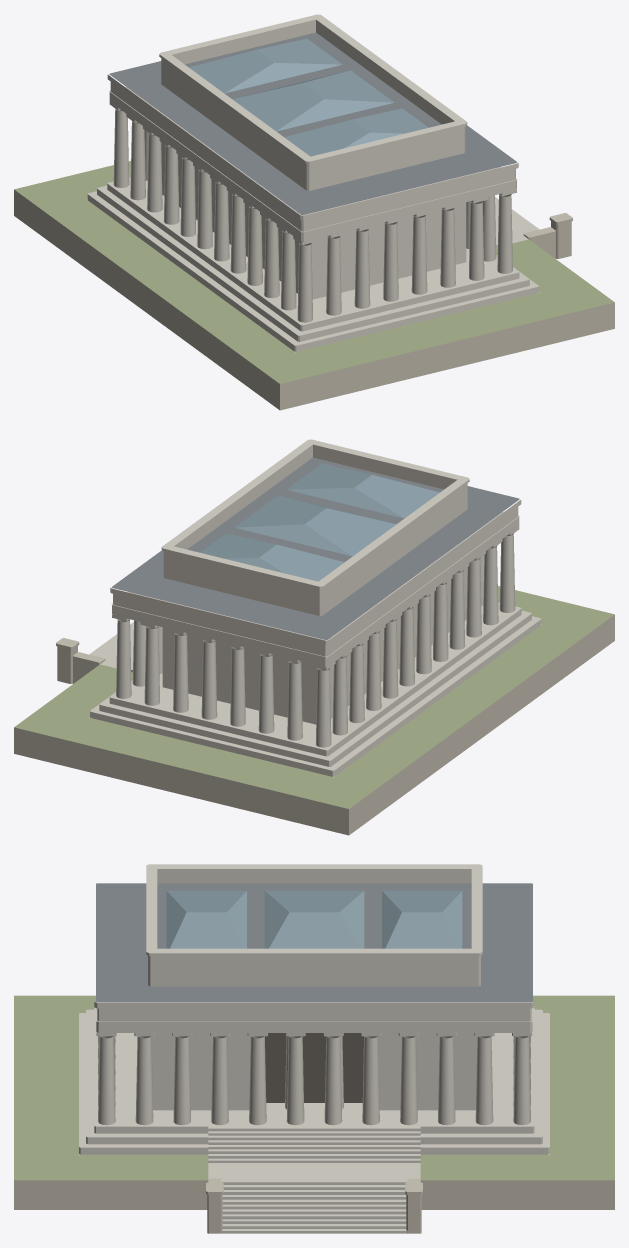
3 views of the same model, one above another, from view 1: azimuth 30°, elevation 25°; view 2: azimuth 150°, elevation 25°; view 3: azimuth 270°, elevation 25° (orthographic). The views are drawn at different scales.
Visible parts, largest first — view 1: lincoln-memorial; view 2: lincoln-memorial; view 3: lincoln-memorial.
Part boxes in pixels (<box>): lincoln-memorial: <box>14,14,614,410</box>; lincoln-memorial: <box>14,439,614,835</box>; lincoln-memorial: <box>14,864,614,1233</box>.
Size of the model in its own units: 64.45 by 30 by 78.4.
